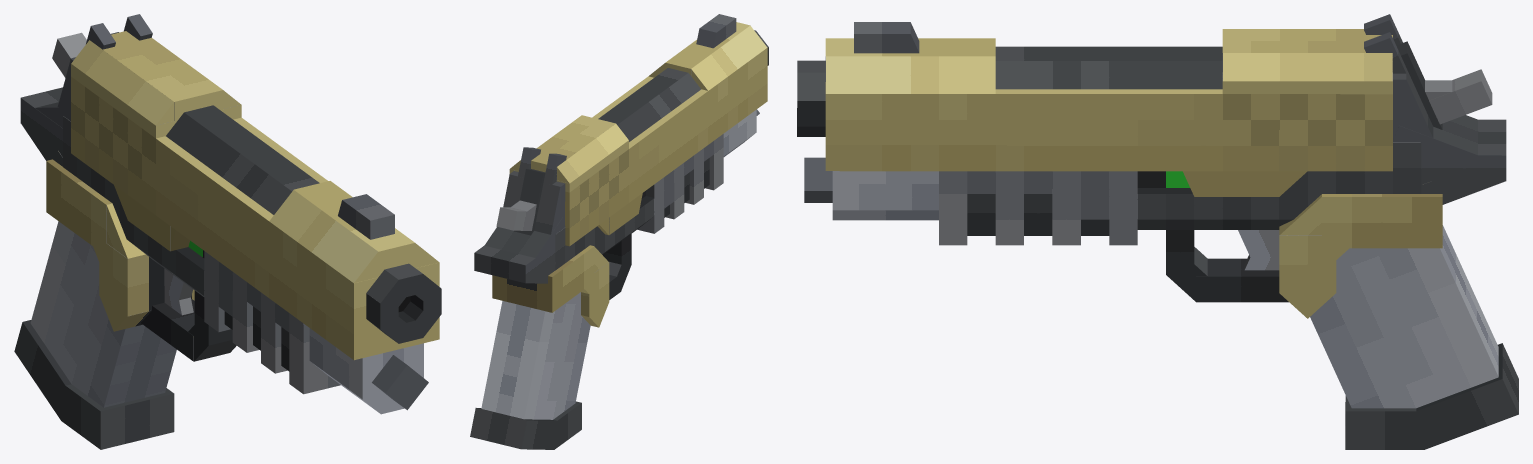
The model's file is pistol.fbx.
The picture shows the model from 3 angles, left to right: view 1: azimuth 30°, elevation 25°; view 2: azimuth 150°, elevation 25°; view 3: azimuth 270°, elevation 25°; orthographic projection. The views are drawn at different scales.
Visible parts, largest first — view 1: pistol; view 2: pistol; view 3: pistol.
Part boxes in pixels (left/top/right/bottom): pistol: left=14, top=14, right=441, bottom=449; pistol: left=470, top=14, right=768, bottom=449; pistol: left=797, top=14, right=1518, bottom=449.
Size of the model in its own units: 0.07 by 0.3158 by 0.5087.
1 material, 1 textured.
